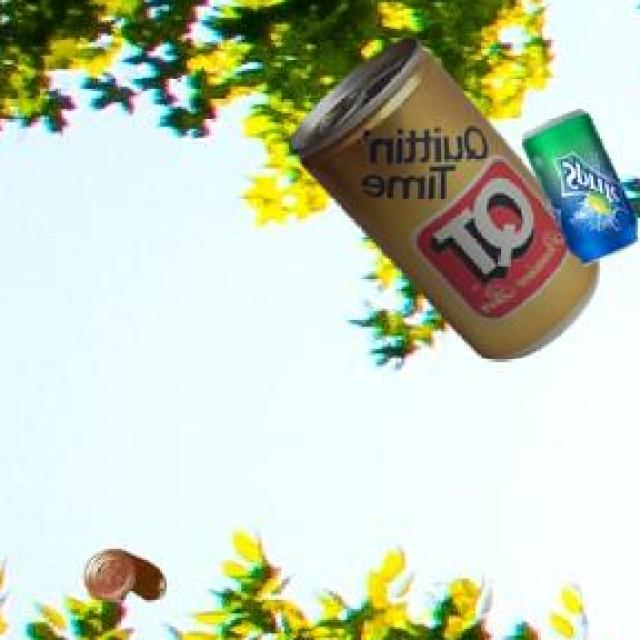logam: (286, 41, 594, 363), (519, 114, 634, 268), (81, 554, 161, 606)
